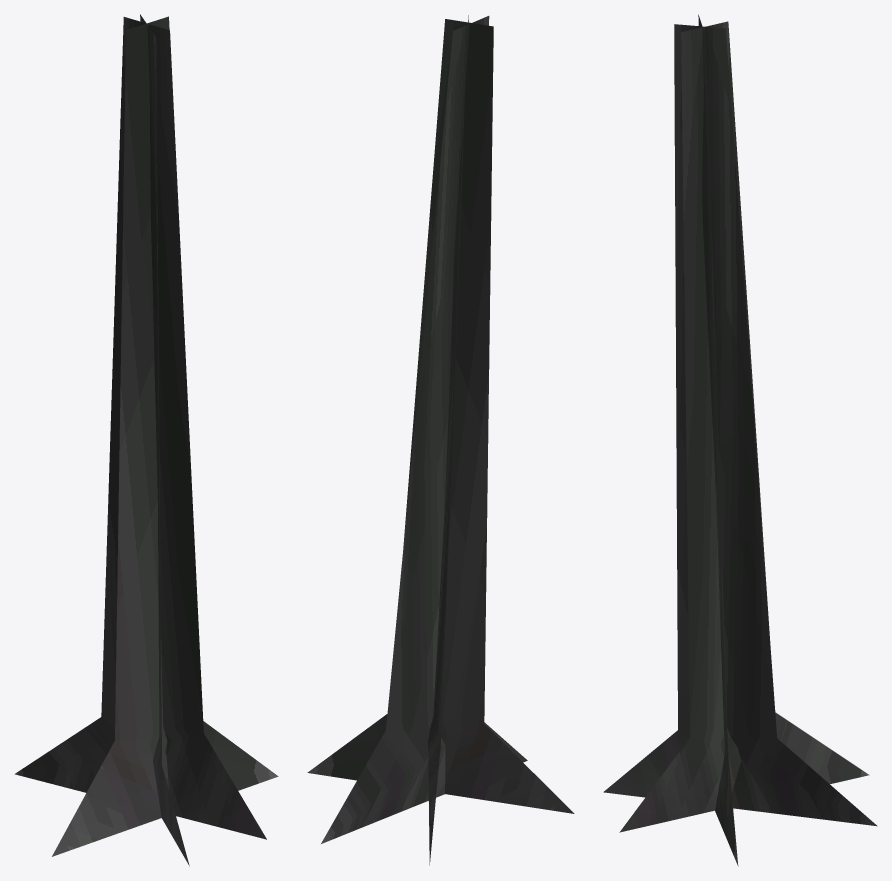
The model's file is INST_HTOWN_APPLETREE_LOD3.fbx.
3 renders of one model, left to right at view 1: azimuth 30°, elevation 25°; view 2: azimuth 150°, elevation 25°; view 3: azimuth 270°, elevation 25°, orthographic. The views are drawn at different scales.
Parts seen in each view (by area): view 1: INST_HTOWN_APPLETREE_LOD3; view 2: INST_HTOWN_APPLETREE_LOD3; view 3: INST_HTOWN_APPLETREE_LOD3.
Part boxes in pixels (bbox=[...]): INST_HTOWN_APPLETREE_LOD3: bbox=[14, 14, 278, 866]; INST_HTOWN_APPLETREE_LOD3: bbox=[307, 15, 574, 865]; INST_HTOWN_APPLETREE_LOD3: bbox=[603, 14, 877, 866].
Bounding box in the file's own units: 11803 × 35857 × 11577.
1 material, 1 textured.
